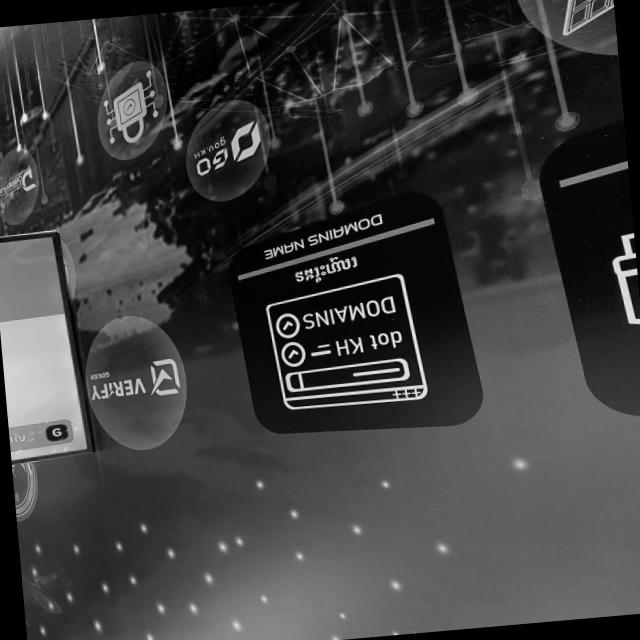Yolov11kh: (284, 246, 369, 290)
